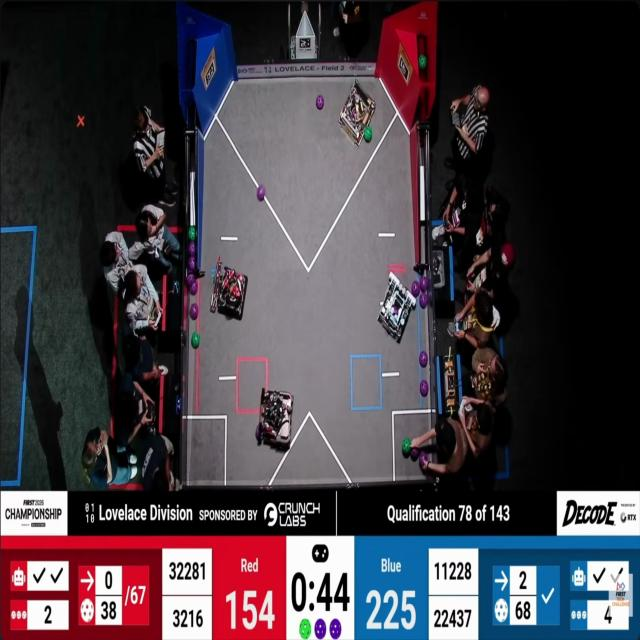artifact_green: (300, 619, 311, 639), (419, 451, 429, 471), (191, 332, 200, 348), (402, 439, 411, 455), (364, 126, 372, 142), (188, 226, 196, 241), (418, 54, 426, 69), (411, 448, 419, 461), (188, 242, 195, 256)
artifact_purple: (315, 619, 326, 639), (330, 619, 341, 639), (419, 452, 428, 470), (420, 276, 429, 292), (419, 351, 428, 367), (411, 281, 420, 296), (420, 380, 428, 396), (190, 303, 198, 319), (257, 185, 265, 201), (316, 95, 324, 110), (188, 256, 196, 271), (190, 280, 198, 295), (420, 293, 428, 308), (187, 273, 195, 288), (188, 242, 195, 257), (411, 448, 419, 461), (256, 425, 262, 442), (351, 107, 357, 121), (393, 305, 398, 315), (238, 274, 244, 282)
